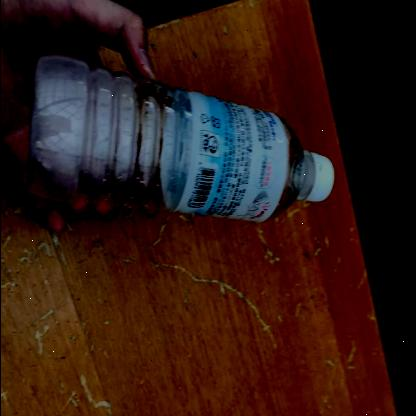Plastic Bottle: (26, 53, 334, 223)
